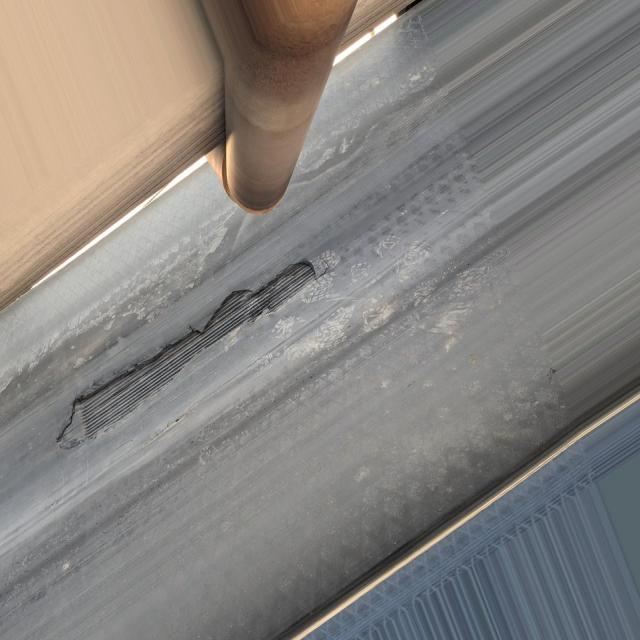Tear: (43, 236, 324, 463), (199, 0, 362, 218)
